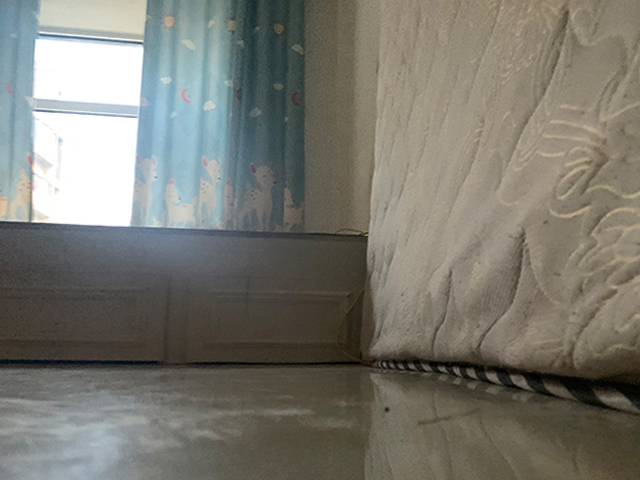bed: (1, 219, 368, 365)
curtain: (129, 2, 308, 230), (1, 1, 35, 221)
wire: (336, 226, 369, 367)
